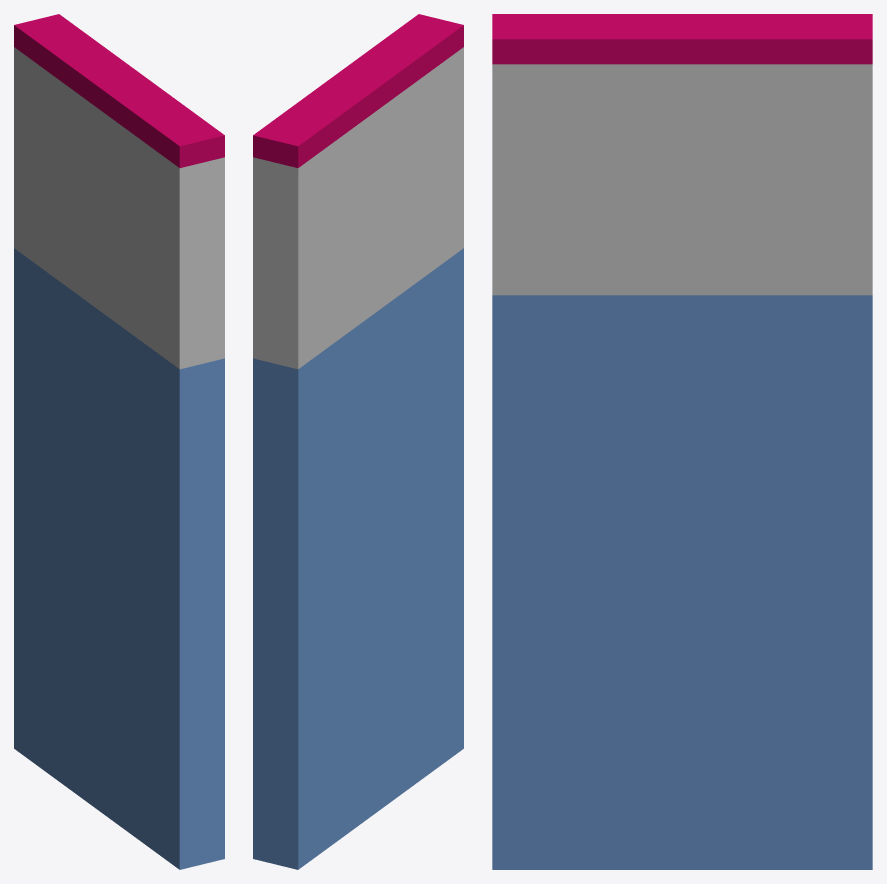
The model's file is door two third.fbx.
3 views of the same model, side by side, from view 1: azimuth 30°, elevation 25°; view 2: azimuth 150°, elevation 25°; view 3: azimuth 270°, elevation 25° (orthographic). The views are drawn at different scales.
Parts seen in each view (by area): view 1: Cube; view 2: Cube; view 3: Cube.
Part boxes in pixels (x1,y1,x2,y2): Cube: (14,14,224,869); Cube: (253,14,463,869); Cube: (492,14,872,869).
Size of the model in its own units: 31.46 by 482 by 200.
